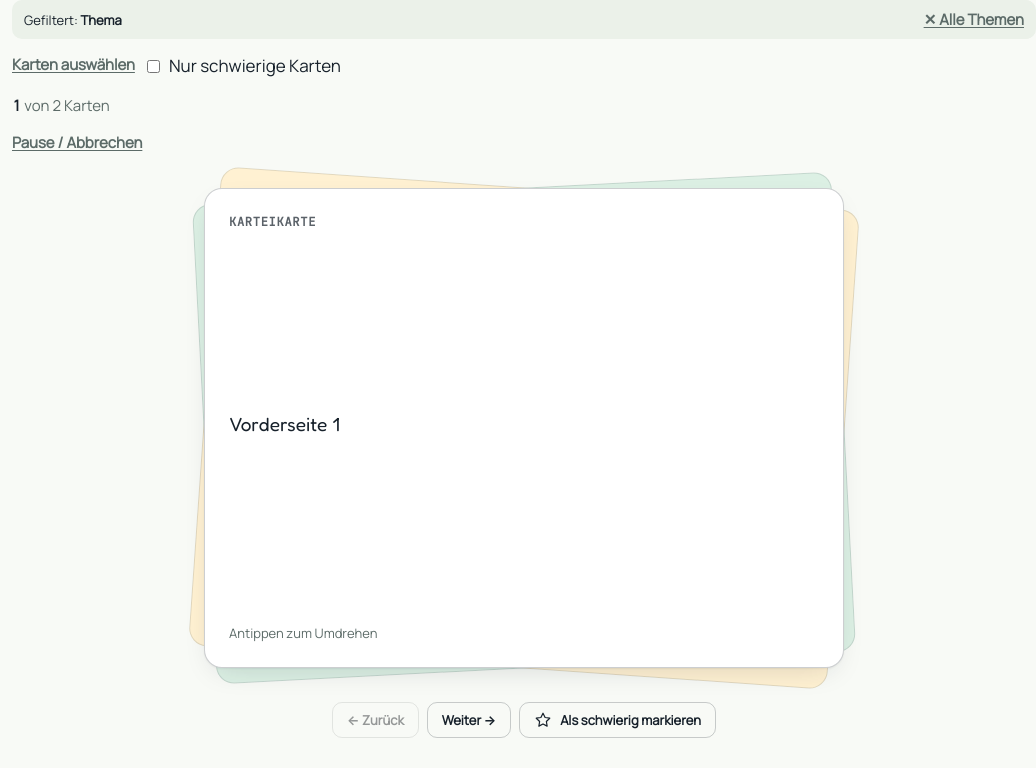
Test: Flashcards (F-110/F-111, nur Karteikarten) › blättert mit „Weiter“ und „Zurück“, ohne zu bewerten; „Zurück“ ist bei der ersten Karte gesperrt
Check: the button "← Zurück" is disabled, box [332, 702, 419, 738]
Click the button "Weiter →": (469, 720) [427, 702, 511, 738]
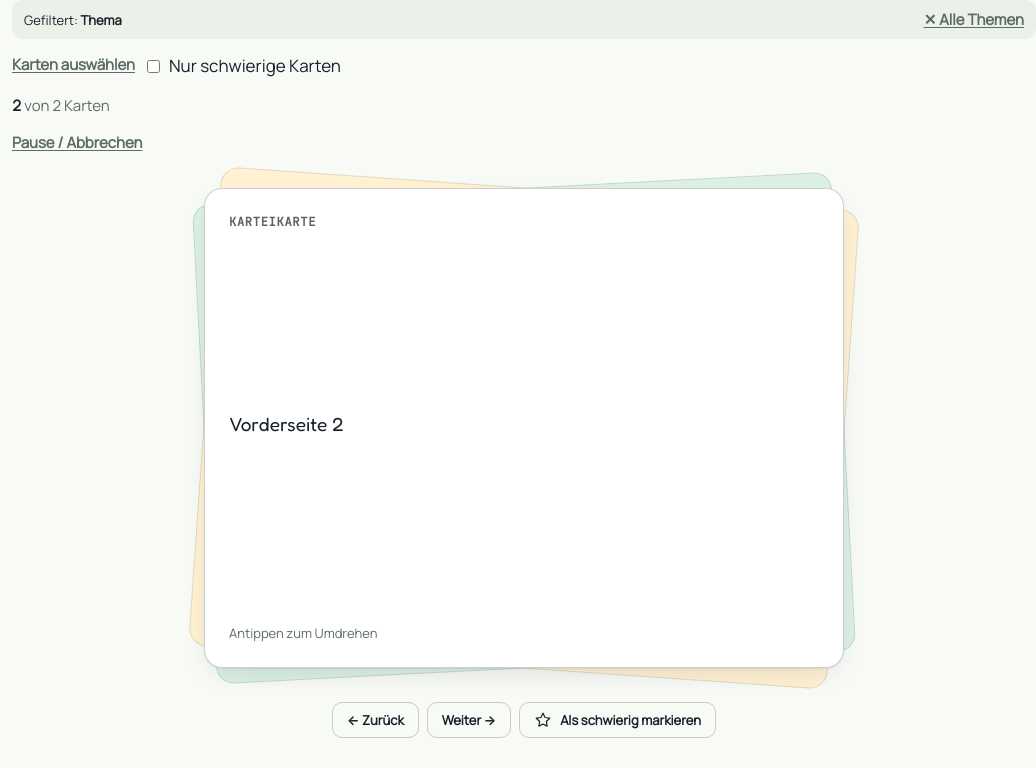
Check: the text "Vorderseite 2" is shown, box [229, 412, 344, 435]
Check: the button "← Zurück" is enabled
Click the button "← Zurück": (376, 720) [332, 702, 419, 738]
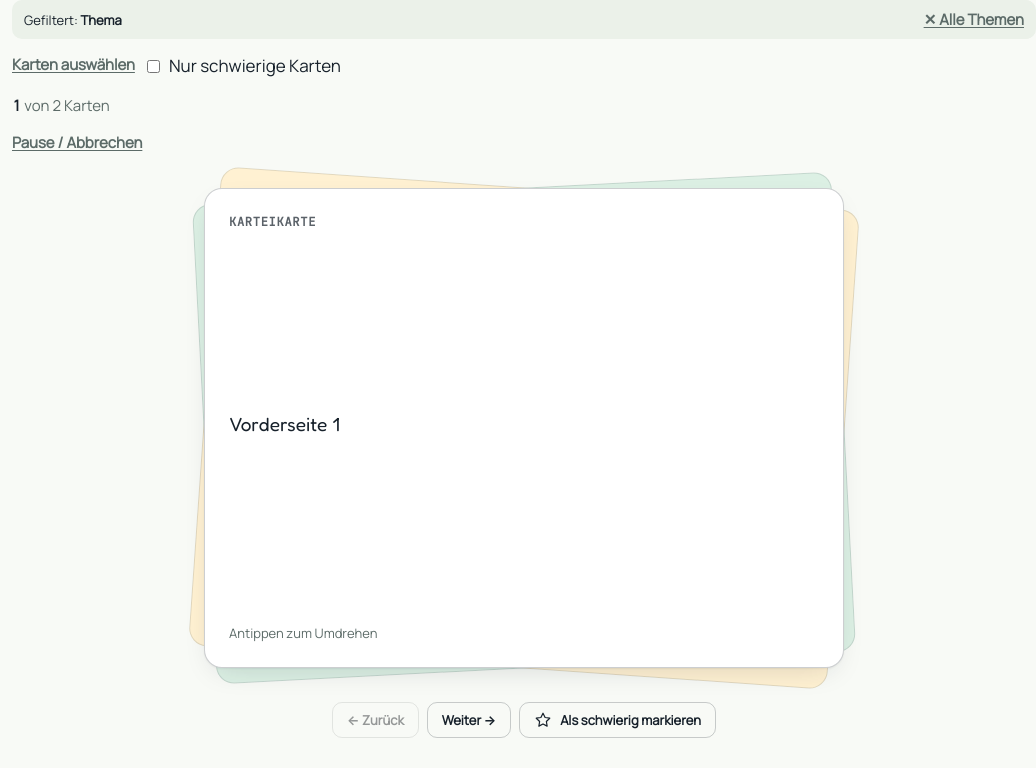
Check: the text "Vorderseite 1" is shown, box [229, 412, 340, 435]
